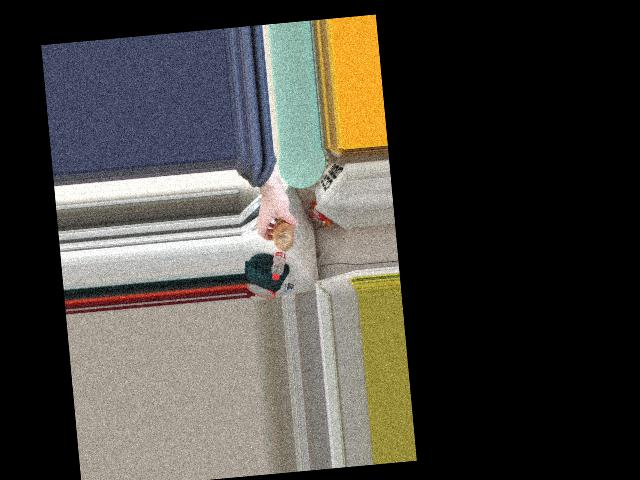sweet_potato: (265, 212, 298, 251)
